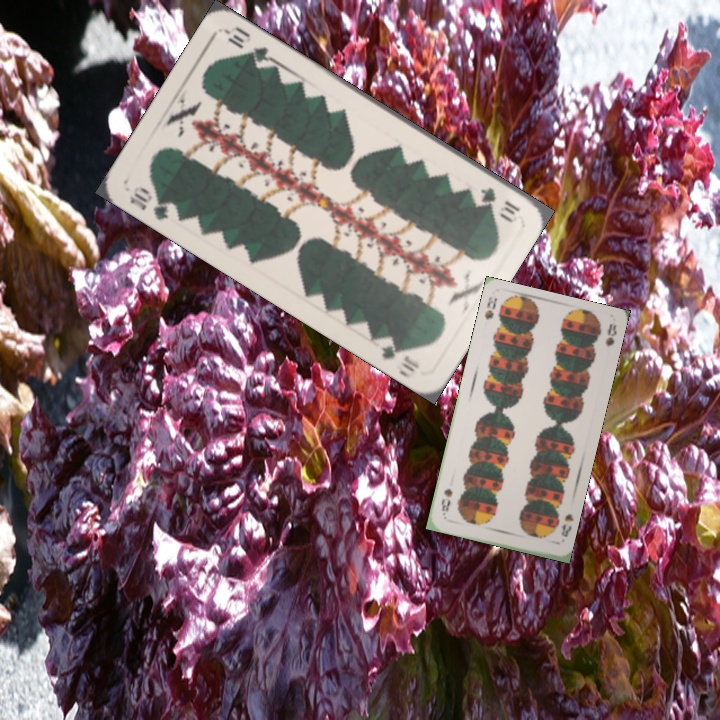G10: (125, 182, 181, 223), (476, 183, 523, 224)
S8: (480, 292, 500, 322), (557, 510, 576, 540)
